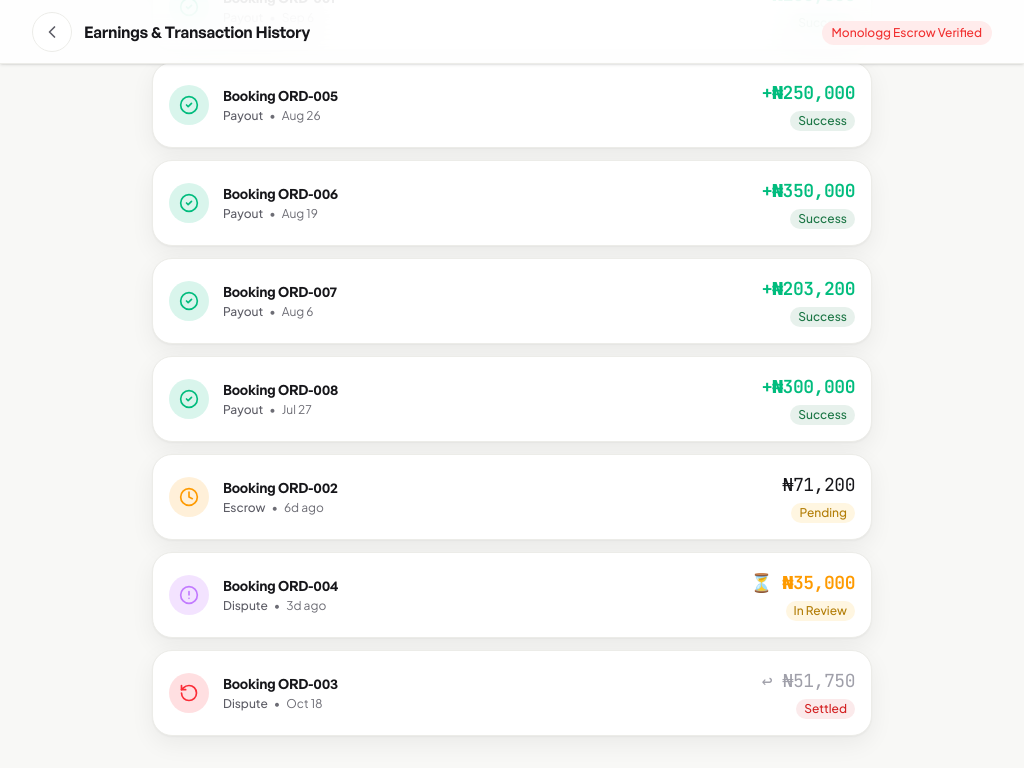
Test: TransactionHistory › modal displays plain-English breakdown and ₦0 take-home for refunded disputes
(page scrolled)
# Find and click on the refunded transaction card
Click the text "Booking ORD-003" at x=512, y=693, box [152,650,872,736]
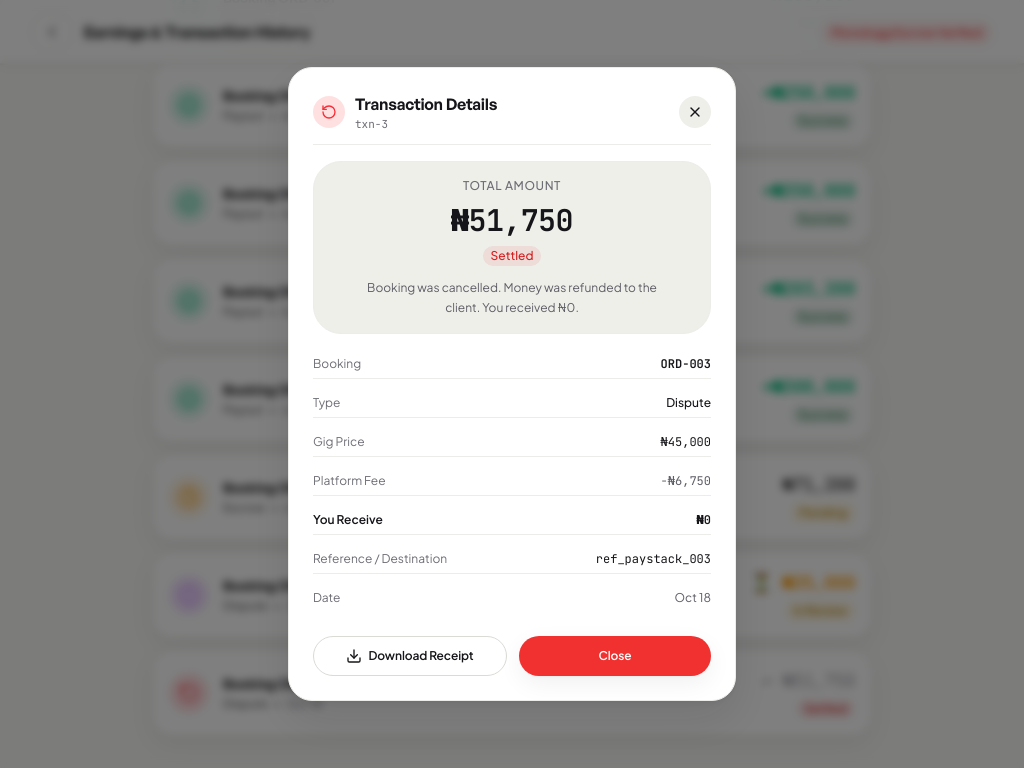
Now the heading "Transaction Details" is shown, box [355,92,497,116]
Now the text "Booking was cancelled. Money was refunded to the client. You received ₦0." is shown, box [352,274,672,317]
Now the text "You Receive" is shown, box [313,512,383,528]
